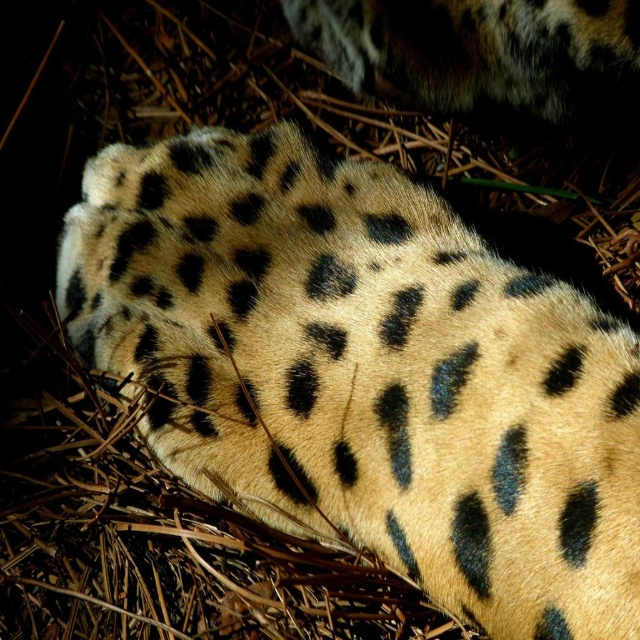Leopard: (52, 0, 640, 640)
